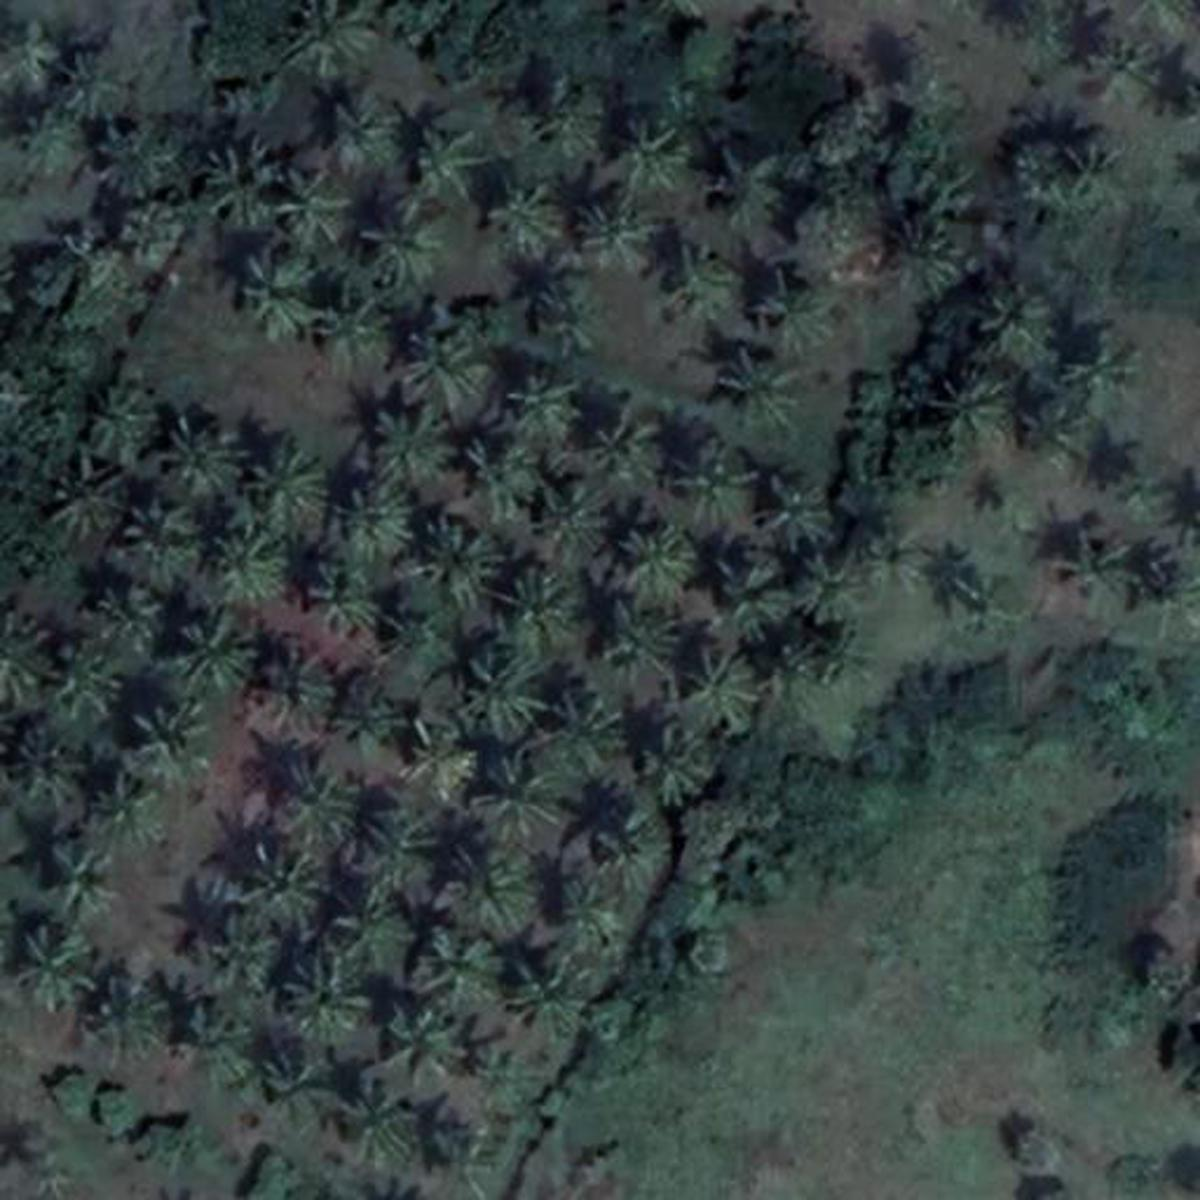coconut: (427, 834, 553, 927), (440, 638, 557, 733), (532, 682, 644, 780), (288, 745, 389, 853), (471, 754, 585, 848), (588, 796, 689, 895), (281, 958, 386, 1054), (255, 632, 353, 733), (396, 925, 516, 1007), (752, 255, 843, 358), (73, 965, 171, 1059), (499, 946, 600, 1035), (710, 344, 803, 438), (236, 251, 325, 349), (199, 897, 292, 989), (316, 91, 412, 180), (373, 996, 468, 1085), (632, 703, 727, 792), (243, 435, 335, 525), (584, 595, 684, 677), (707, 142, 799, 227), (398, 726, 492, 810), (253, 843, 337, 935), (1040, 536, 1143, 611), (480, 166, 571, 251), (607, 114, 705, 192), (187, 1003, 267, 1099), (199, 138, 290, 222), (405, 513, 499, 595), (515, 260, 600, 349), (721, 549, 805, 638), (375, 199, 457, 290), (323, 884, 416, 963), (1012, 393, 1099, 478), (49, 451, 133, 538), (1085, 16, 1167, 105), (260, 1047, 344, 1134), (353, 405, 457, 475), (7, 918, 93, 1000), (201, 529, 288, 611), (609, 508, 705, 581), (1064, 327, 1155, 405), (555, 867, 627, 965), (327, 670, 421, 745), (532, 464, 616, 546), (100, 121, 189, 199), (65, 632, 133, 733), (499, 365, 585, 445), (405, 124, 492, 203), (337, 478, 426, 555), (667, 234, 745, 321), (285, 157, 363, 243), (138, 703, 213, 792), (1019, 0, 1085, 100), (464, 431, 543, 513), (89, 585, 173, 663), (581, 403, 673, 475), (410, 327, 485, 414), (878, 225, 975, 292), (979, 278, 1057, 358), (116, 501, 195, 581), (581, 199, 663, 276), (344, 1082, 421, 1164), (764, 468, 841, 548), (166, 416, 241, 499), (302, 564, 396, 630), (416, 1122, 510, 1188), (679, 442, 762, 515), (49, 56, 142, 121), (285, 7, 370, 75), (795, 560, 876, 630), (11, 726, 84, 803), (495, 571, 585, 632), (938, 370, 1014, 442), (522, 89, 614, 147), (679, 663, 771, 721), (9, 25, 75, 105), (91, 780, 168, 848), (803, 630, 876, 700), (185, 618, 253, 691), (38, 846, 121, 904), (855, 522, 923, 592), (1064, 147, 1136, 213), (4, 609, 49, 707), (956, 574, 1026, 635), (100, 382, 166, 445), (327, 302, 389, 367), (478, 1045, 538, 1105)
